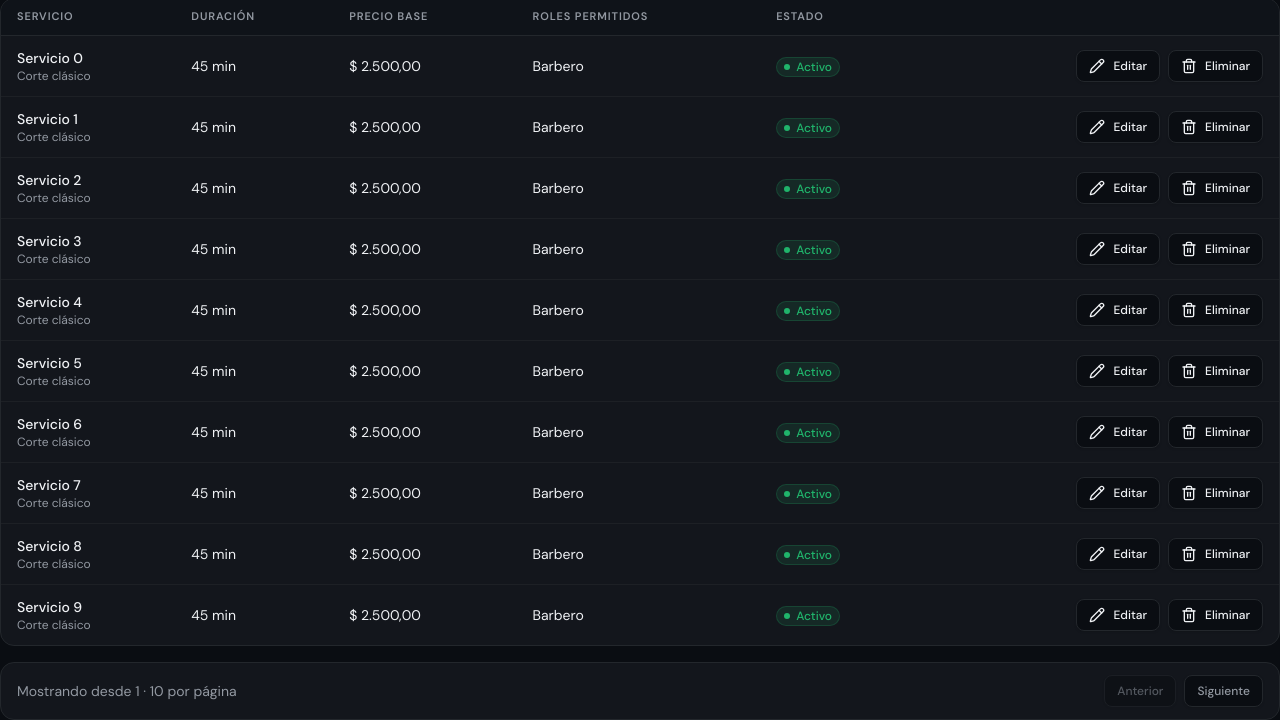
Test case: ServicesCrudPage › requests the next offset when clicking Next
(page scrolled)
Check: the text "Servicio 0" is shown, box [17, 49, 83, 67]
Click the button "Siguiente": [1224, 691] box [1184, 675, 1263, 707]
(page scrolled)
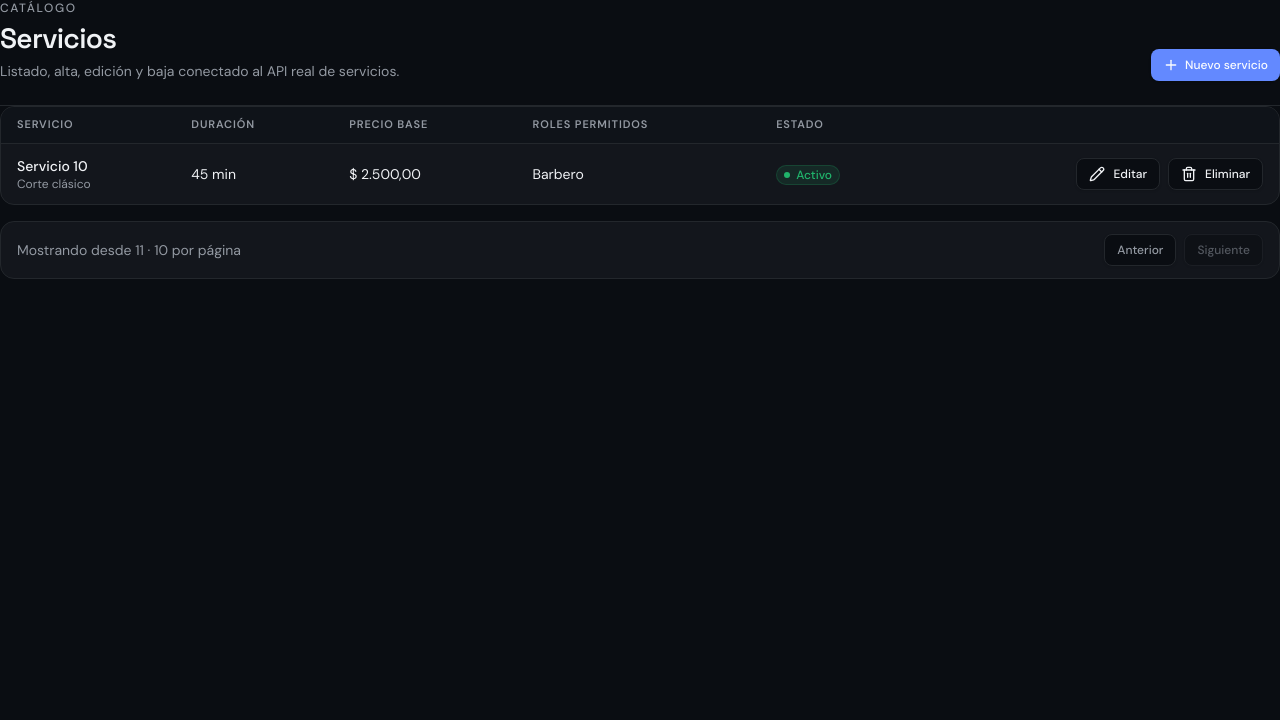
Check: the text "Servicio 10" is shown, box [17, 157, 88, 175]
